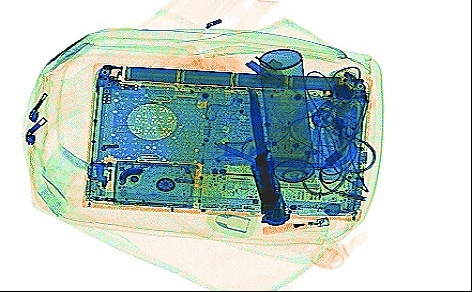knife: (244, 82, 280, 214), (247, 155, 290, 224)
lighter: (259, 214, 332, 235)
pressure: (254, 44, 315, 182)
